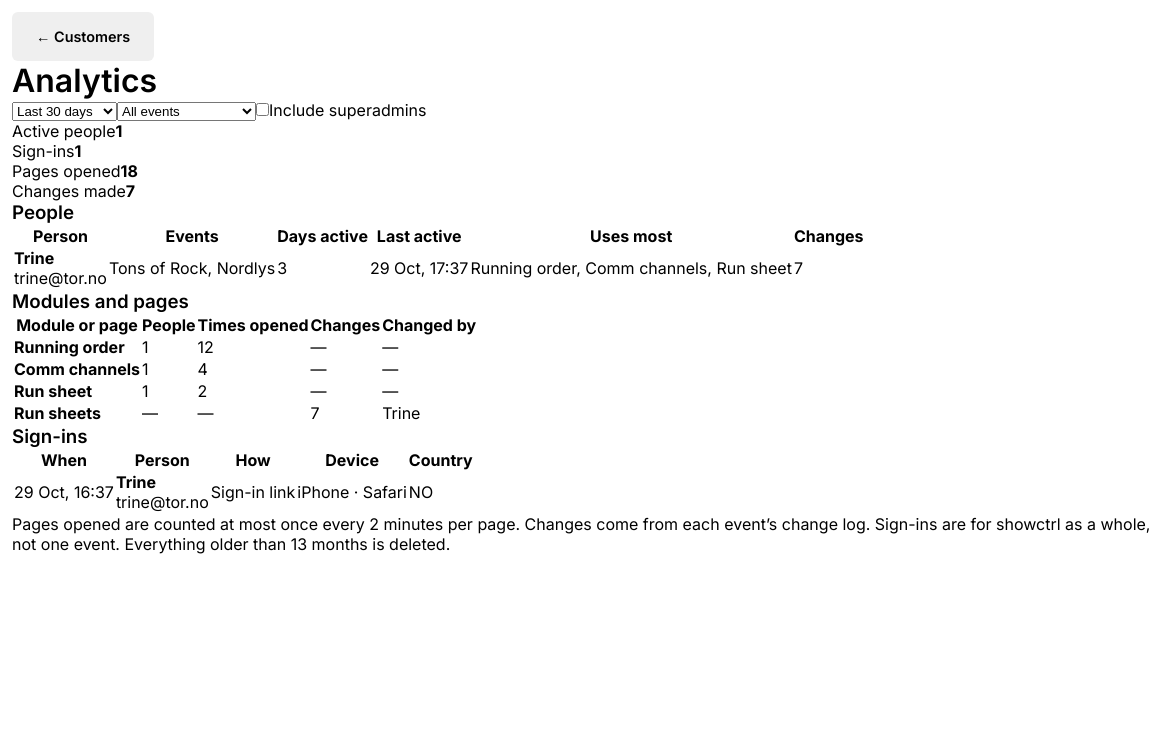
Test: analytics › shows people, modules and sign-ins, without superadmins unless asked
expect the text "Trine" next to "Tons of Rock, Nordlys" is shown: met, box [14,248,54,268]
expect the text "Boss" is not shown: met
Click the checkbox labelled "Include superadmins" at (262, 110), box [256,103,269,116]
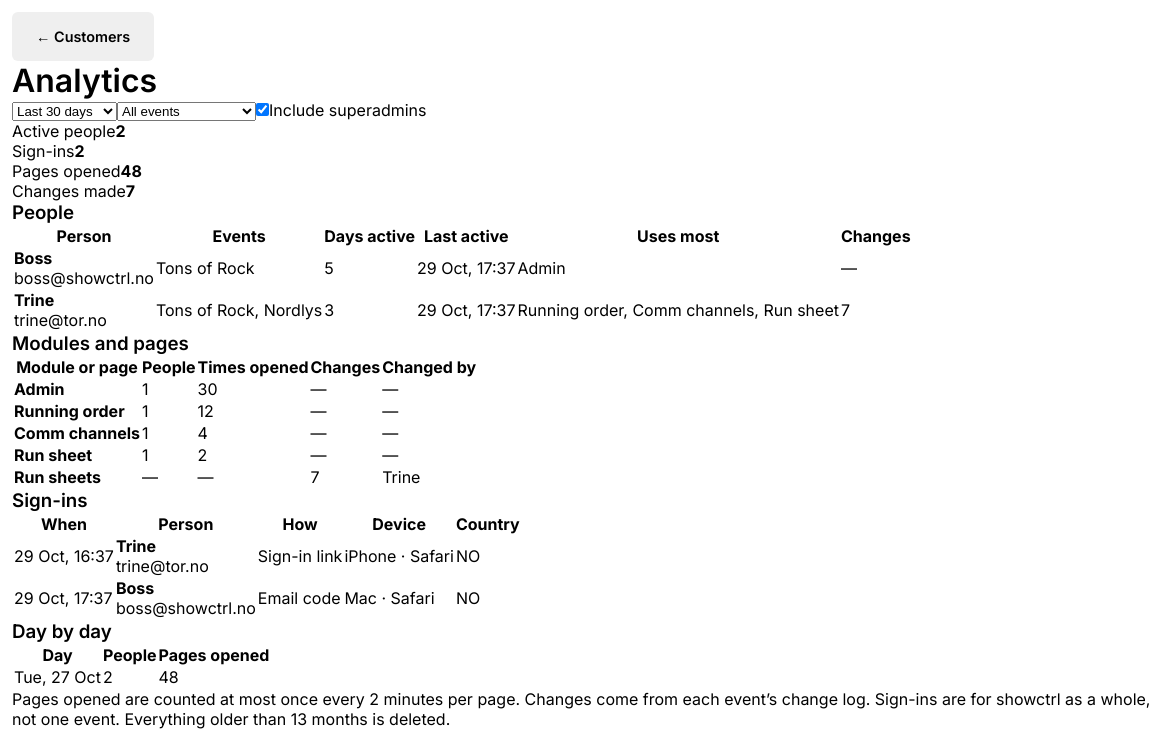
expect the text "Boss" below "Events" is shown: met, box [14,248,52,268]
Select "TOR · Nordlys" in the dropdown named "Event" at (186, 112), box [117,102,256,121]
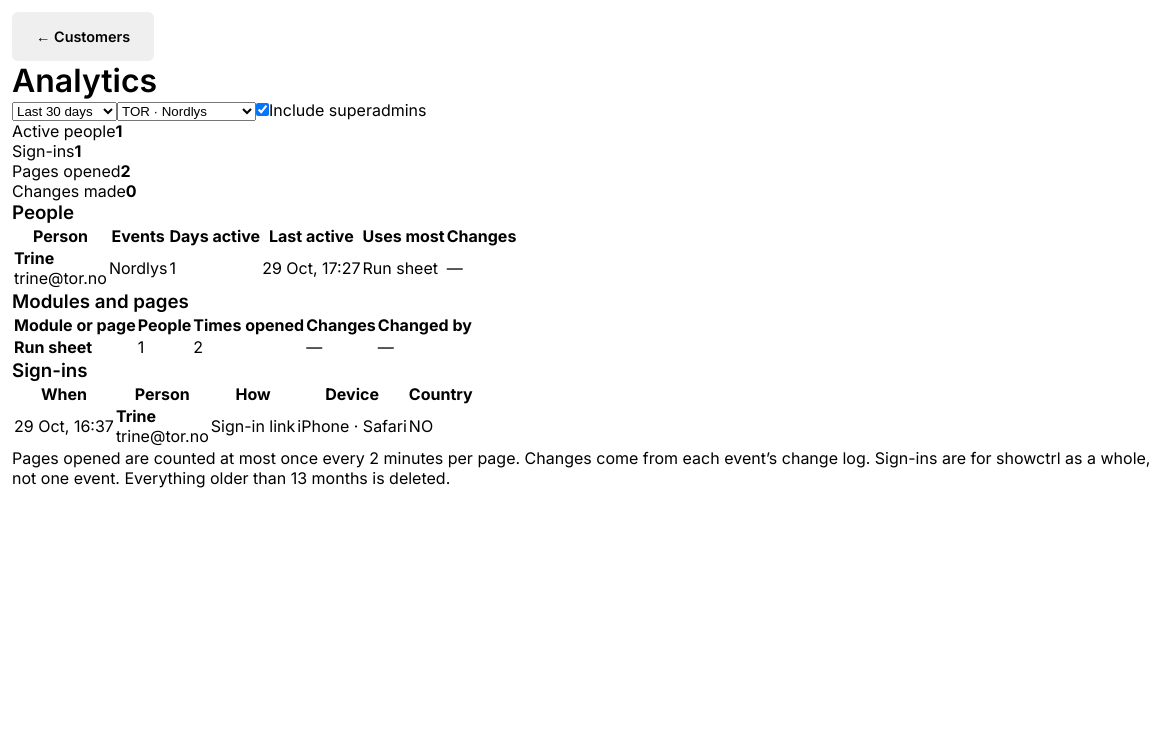
expect the text "Run sheet" in the row of "Nordlys" is shown: met, box [362,258,438,278]
expect the text "Comm channels" is gone: met
